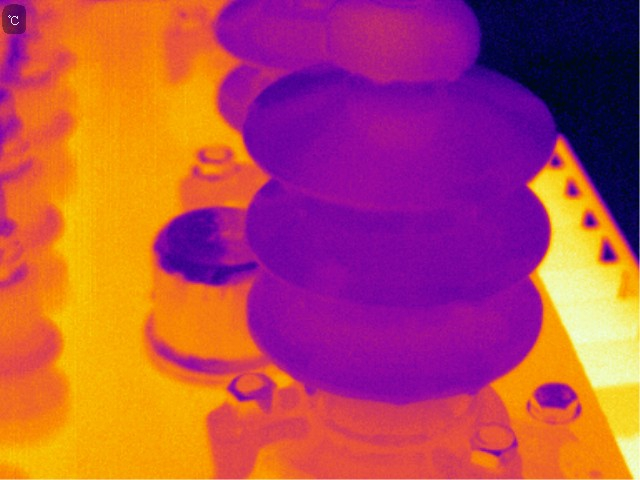Oil: (322, 2, 475, 84), (358, 110, 452, 154), (304, 376, 318, 400)
